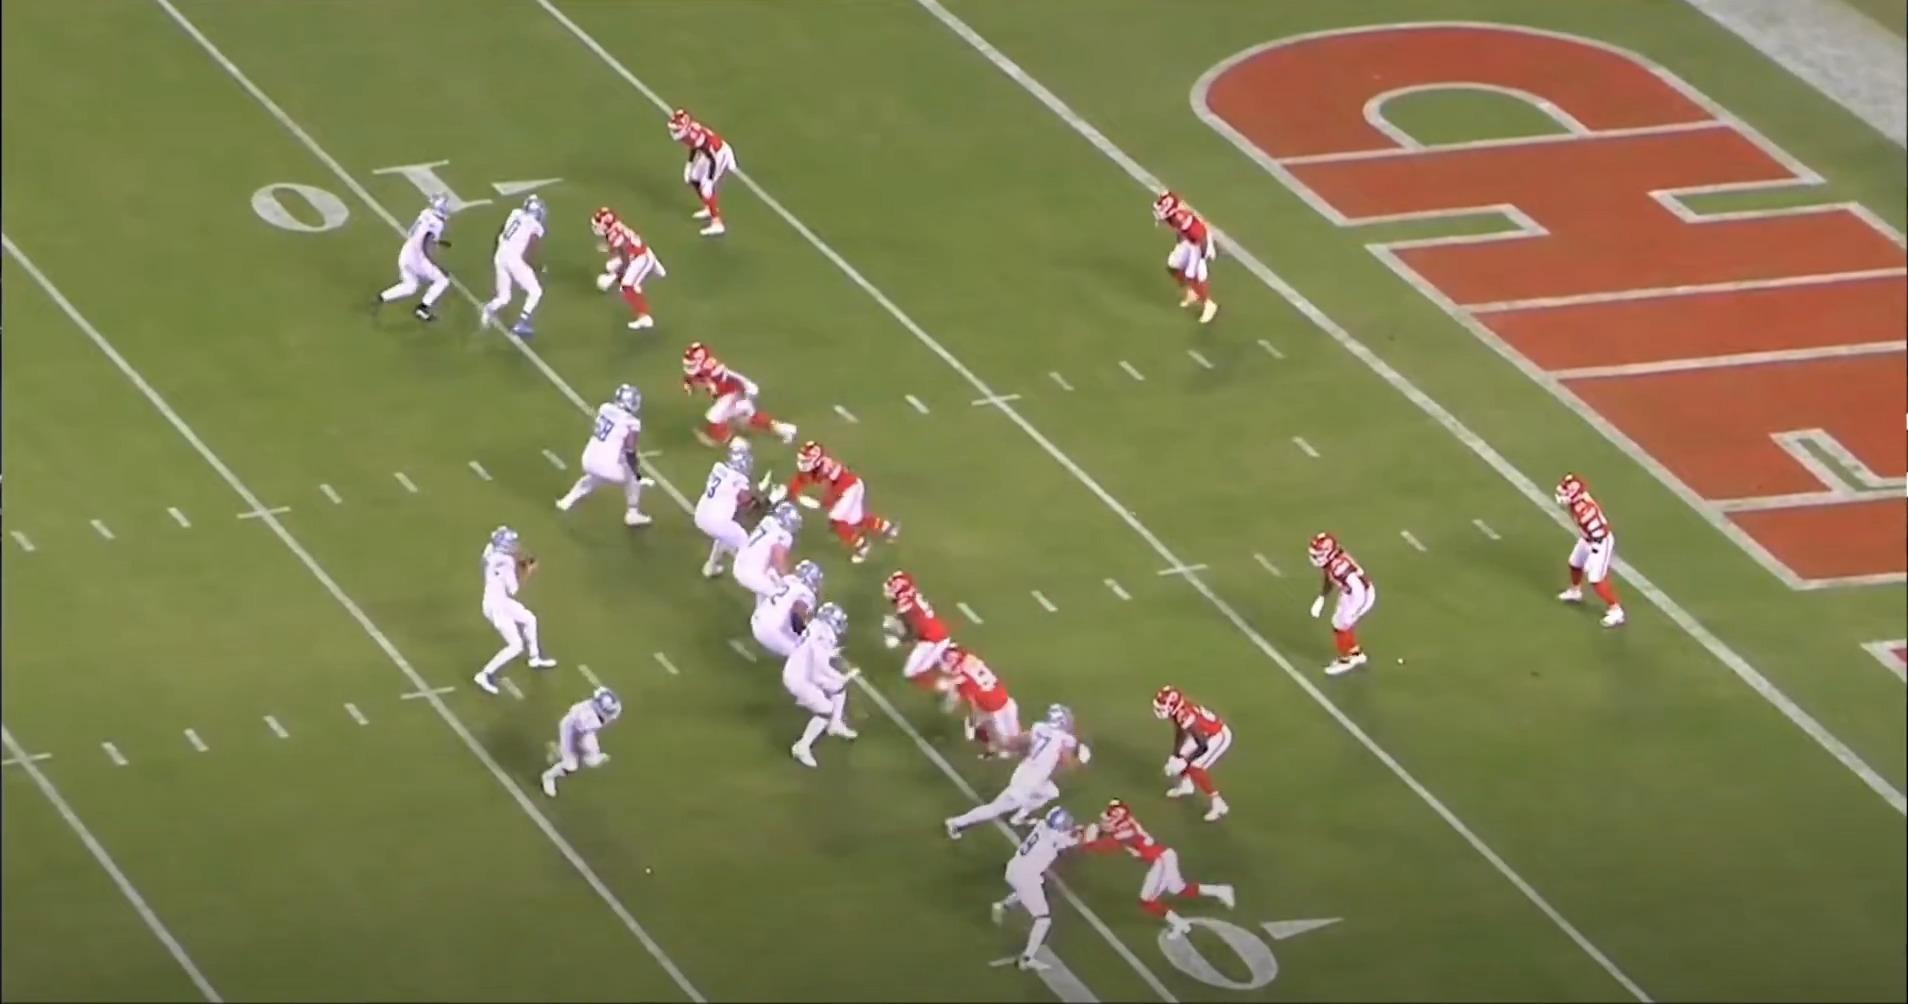defense: (1083, 796, 1232, 945), (676, 338, 798, 453), (798, 445, 904, 568), (1547, 476, 1624, 636), (1158, 686, 1242, 830), (1307, 530, 1383, 681), (872, 569, 954, 706), (593, 203, 673, 337), (939, 648, 1027, 768), (1148, 184, 1222, 327), (671, 105, 745, 243)
oline: (559, 380, 661, 528), (779, 597, 859, 773), (700, 443, 775, 583), (747, 563, 829, 675), (728, 496, 804, 612)
qb: (469, 521, 553, 700)
skill: (938, 701, 1086, 848), (998, 805, 1102, 978), (481, 188, 564, 346), (379, 190, 468, 325), (539, 682, 631, 800)
